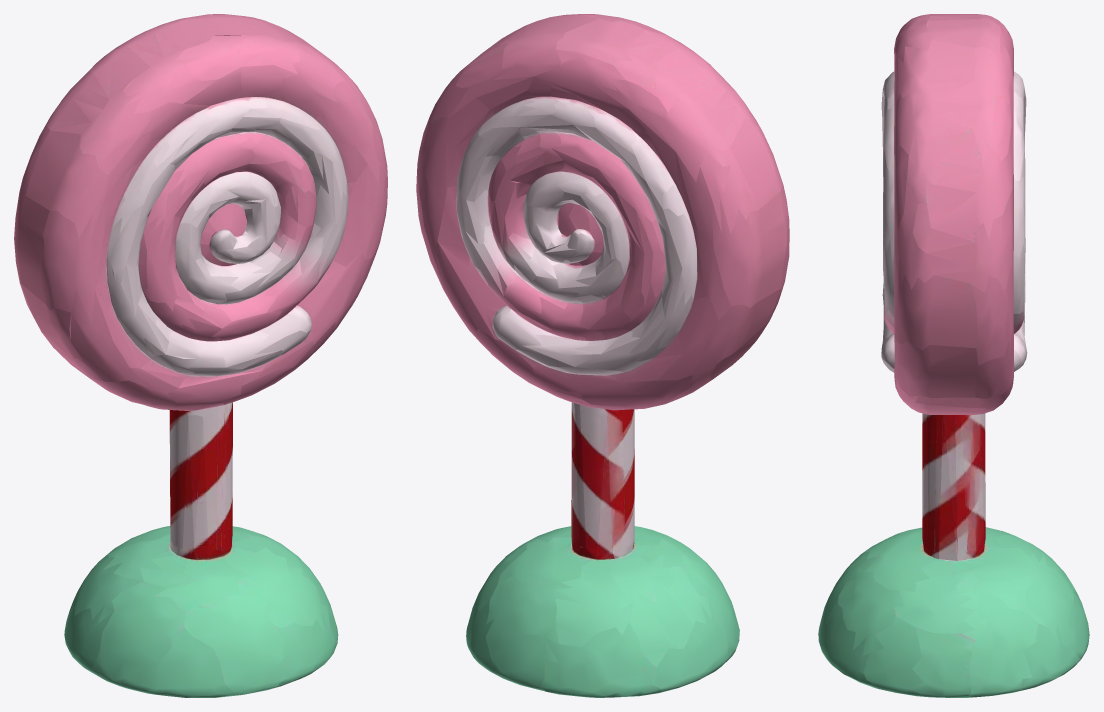
The model's file is lollipop_tree.glb.
3 views of the same model, side by side, from view 1: azimuth 30°, elevation 25°; view 2: azimuth 150°, elevation 25°; view 3: azimuth 270°, elevation 25° (orthographic).
Size of the model in its own units: 1.11 by 1.9 by 0.7633.
1 material, 1 textured.
